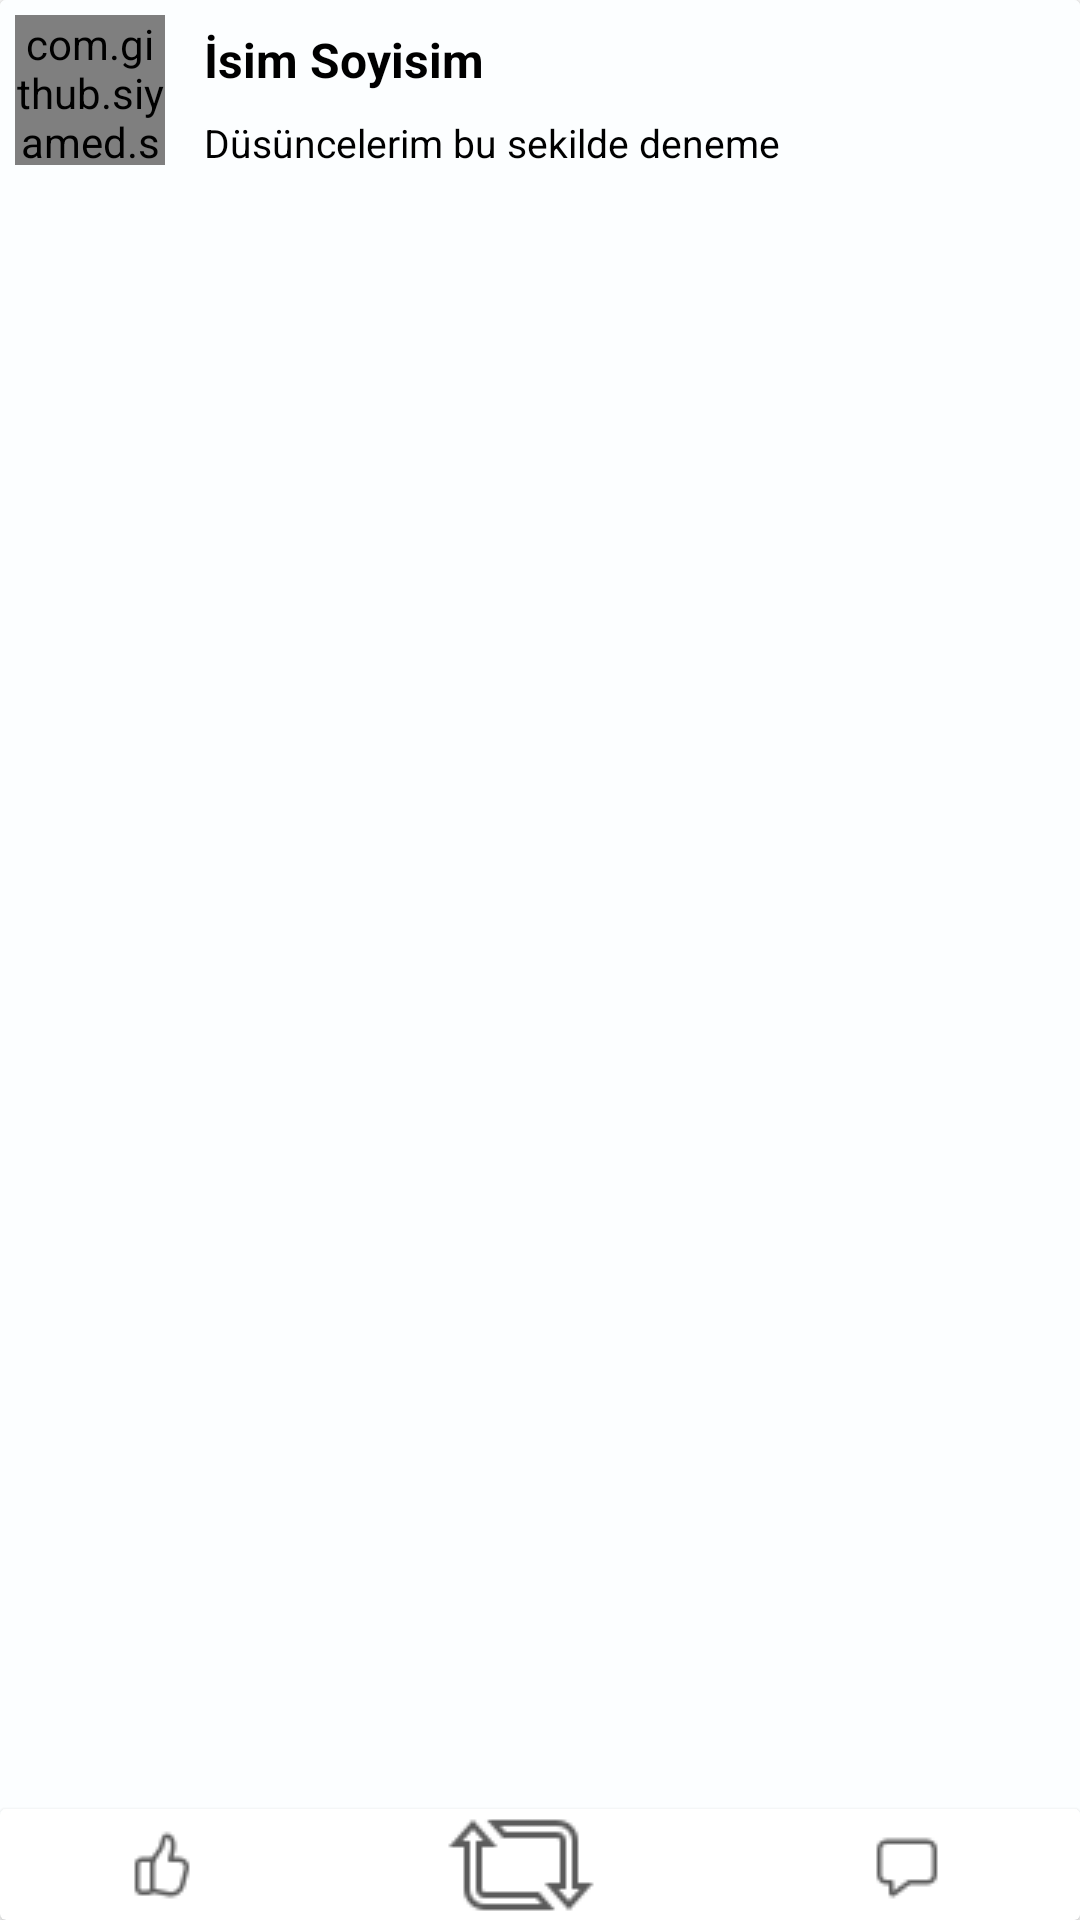

Screen size 1080×1920. Icon name, then its center in pixels as [x,y]:
favori: [162,1865]
retweet: [521,1865]
